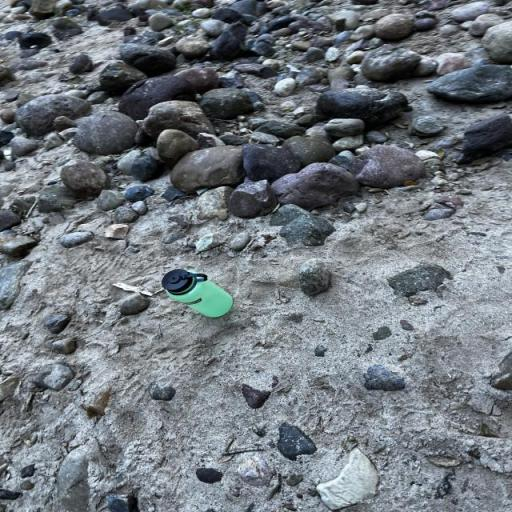bottle: (161, 268, 233, 318)
